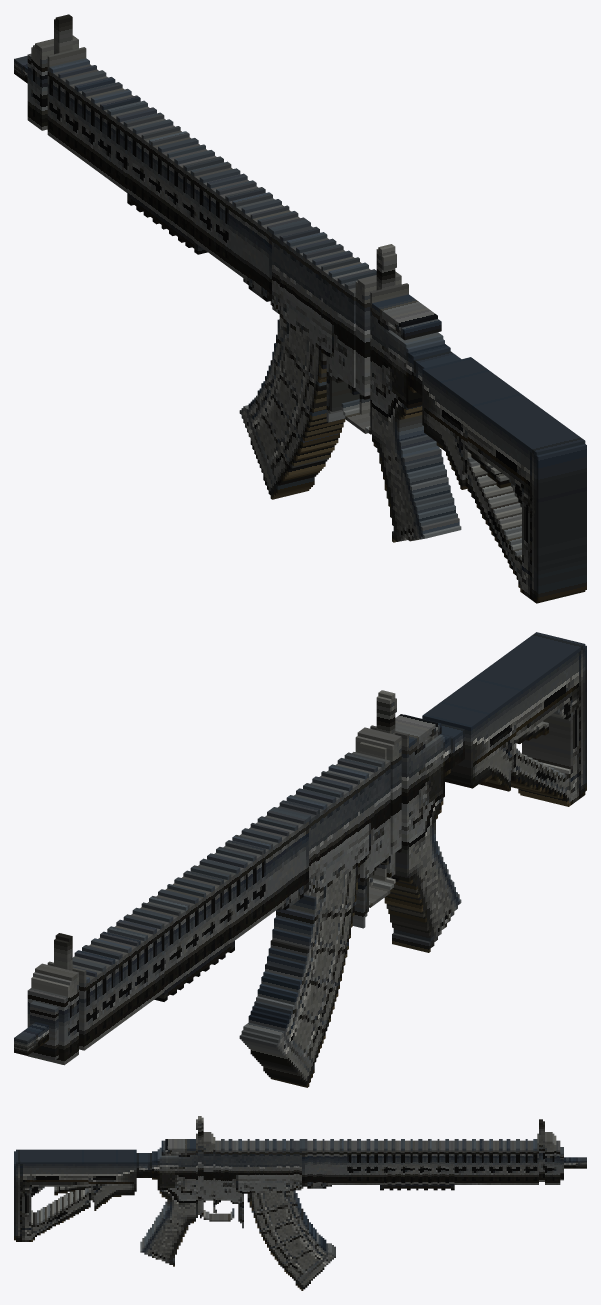
3 renders of one model, top to bottom at view 1: azimuth 30°, elevation 25°; view 2: azimuth 150°, elevation 25°; view 3: azimuth 270°, elevation 25°, orthographic. The views are drawn at different scales.
Visible parts, largest first — view 1: download_99, download_97, download_96, download_50, download_6, download_127, download_92, download_41, download_42, download_81, download_134, download_47 (+11 smaller); view 2: download_97, download_96, download_134, download_50, download_42, download_92, download_127, download_81, download_10, download_6, download_43, download_52 (+41 smaller); view 3: download_97, download_96, download_50, download_81, download_92, download_134, download_127, download_6, download_43, download_83, download_41, download_80 (+48 smaller).
Boxes of the visible parts, box(x1,y1,x2,y2) form: download_99: box(536, 444, 586, 601); download_97: box(467, 390, 585, 498); download_96: box(422, 357, 515, 457); download_50: box(372, 294, 424, 452); download_6: box(357, 271, 401, 396); download_127: box(388, 401, 426, 513); download_92: box(388, 331, 443, 413); download_41: box(279, 226, 319, 481); download_42: box(286, 232, 327, 470); download_81: box(290, 238, 332, 460); download_134: box(522, 508, 585, 603); download_47: box(328, 262, 368, 411); download_97: box(468, 632, 585, 739); download_96: box(422, 682, 516, 783); download_134: box(522, 710, 585, 805); download_50: box(394, 725, 425, 881); download_42: box(286, 795, 327, 1032); download_92: box(425, 734, 443, 817); download_127: box(388, 810, 435, 922); download_81: box(294, 794, 332, 1016); download_10: box(370, 725, 408, 876); download_6: box(357, 727, 401, 852); download_43: box(296, 788, 336, 1003); download_52: box(27, 988, 67, 1065); download_97: box(16, 1149, 88, 1186); download_96: box(88, 1149, 136, 1191); download_50: box(178, 1139, 195, 1221); download_81: box(276, 1140, 282, 1261); download_92: box(159, 1147, 178, 1193); download_134: box(16, 1197, 31, 1241); download_127: box(167, 1193, 178, 1249); download_6: box(203, 1132, 211, 1200); download_43: box(272, 1139, 276, 1256); download_83: box(259, 1140, 264, 1233); download_41: box(290, 1139, 293, 1276); download_80: box(286, 1140, 289, 1273).
Size of the model in its own units: 0.0517 by 0.3233 by 0.9967.
Materials: 1 (1 with a texture image).
